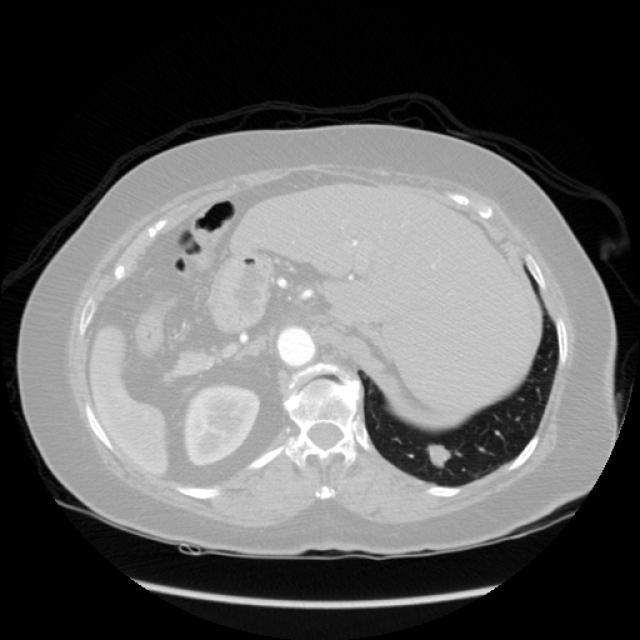nodule: (414, 428, 466, 480)
